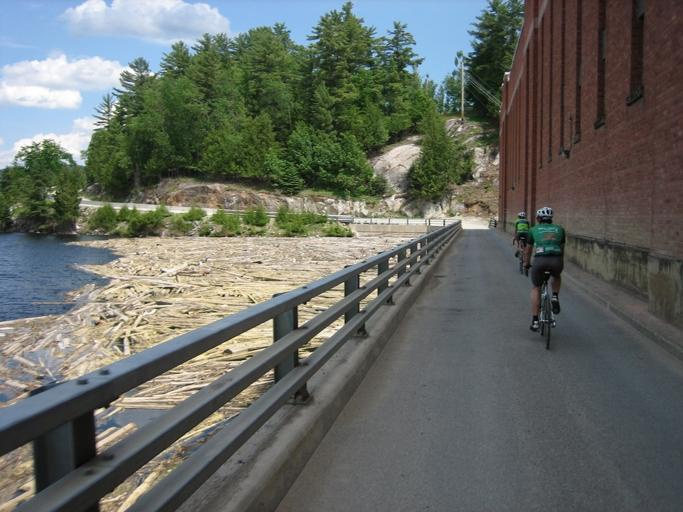non-vehicle: (524, 263, 556, 349), (511, 236, 531, 275)
